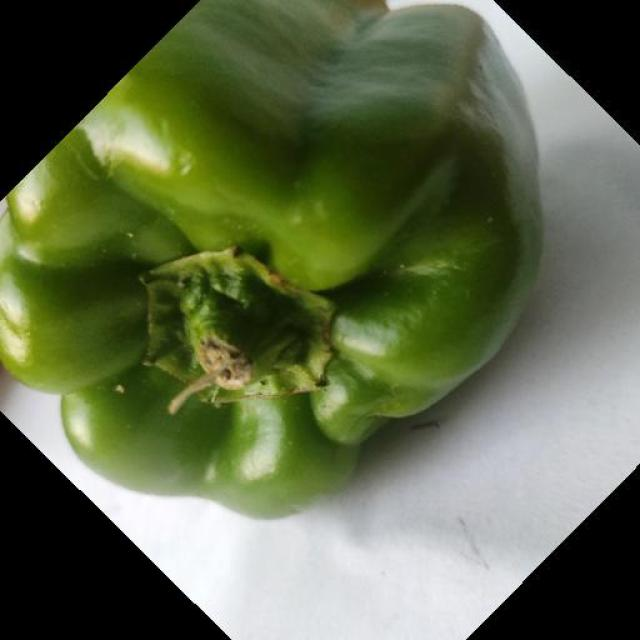Fresh_Capsicum: (74, 0, 337, 538)
